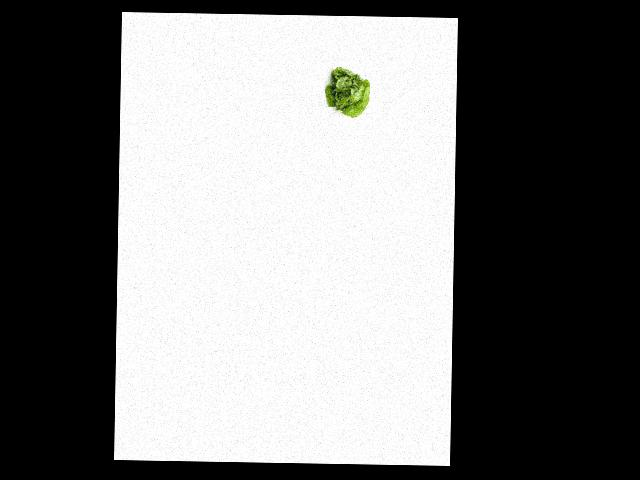lettuce: (321, 65, 374, 118)
